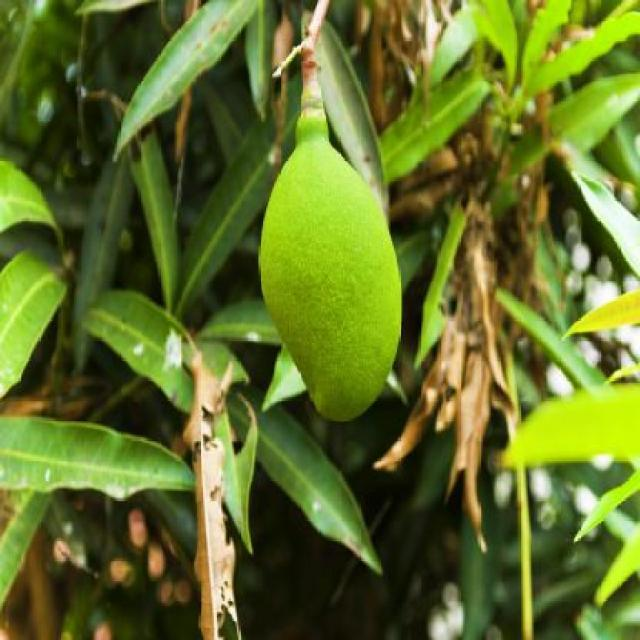Mango: (256, 108, 406, 428)
